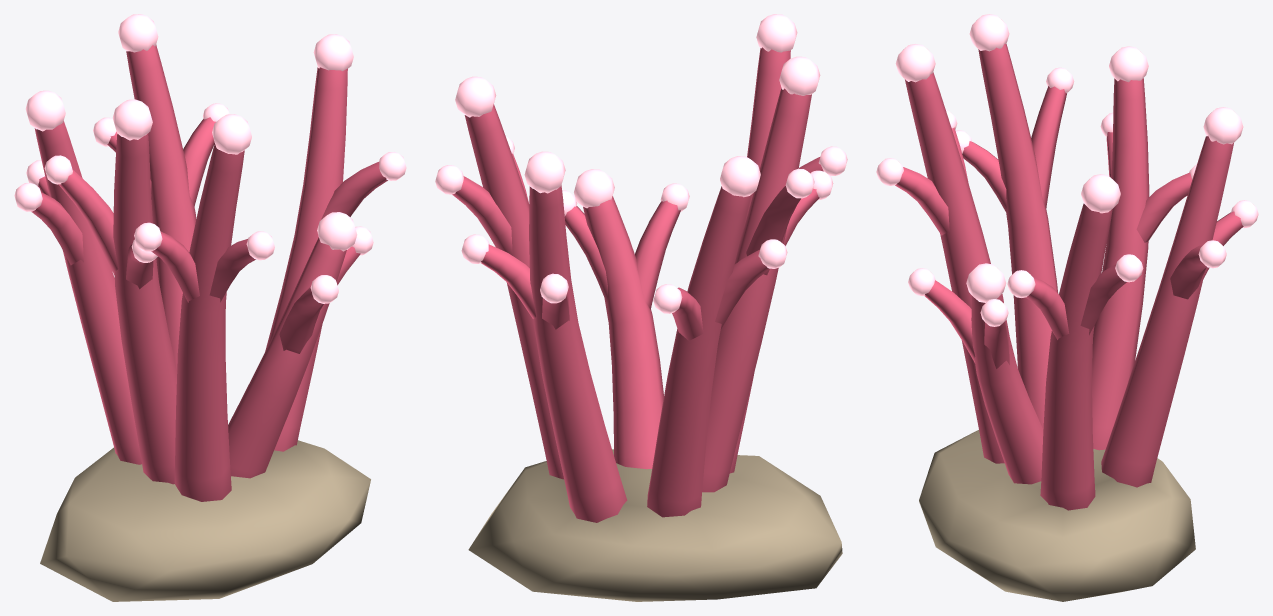
The model's file is coral1.glb.
3 renders of one model, left to right at view 1: azimuth 30°, elevation 25°; view 2: azimuth 150°, elevation 25°; view 3: azimuth 270°, elevation 25°, orthographic. The views are drawn at different scales.
Visible parts, largest first — view 1: Coral; view 2: Coral; view 3: Coral.
Part boxes in pixels (<box>): Coral: <box>14,14,406,601</box>; Coral: <box>435,14,847,601</box>; Coral: <box>876,14,1258,601</box>.
Bounding box in the file's own units: 1.62 × 2.32 × 1.62.
